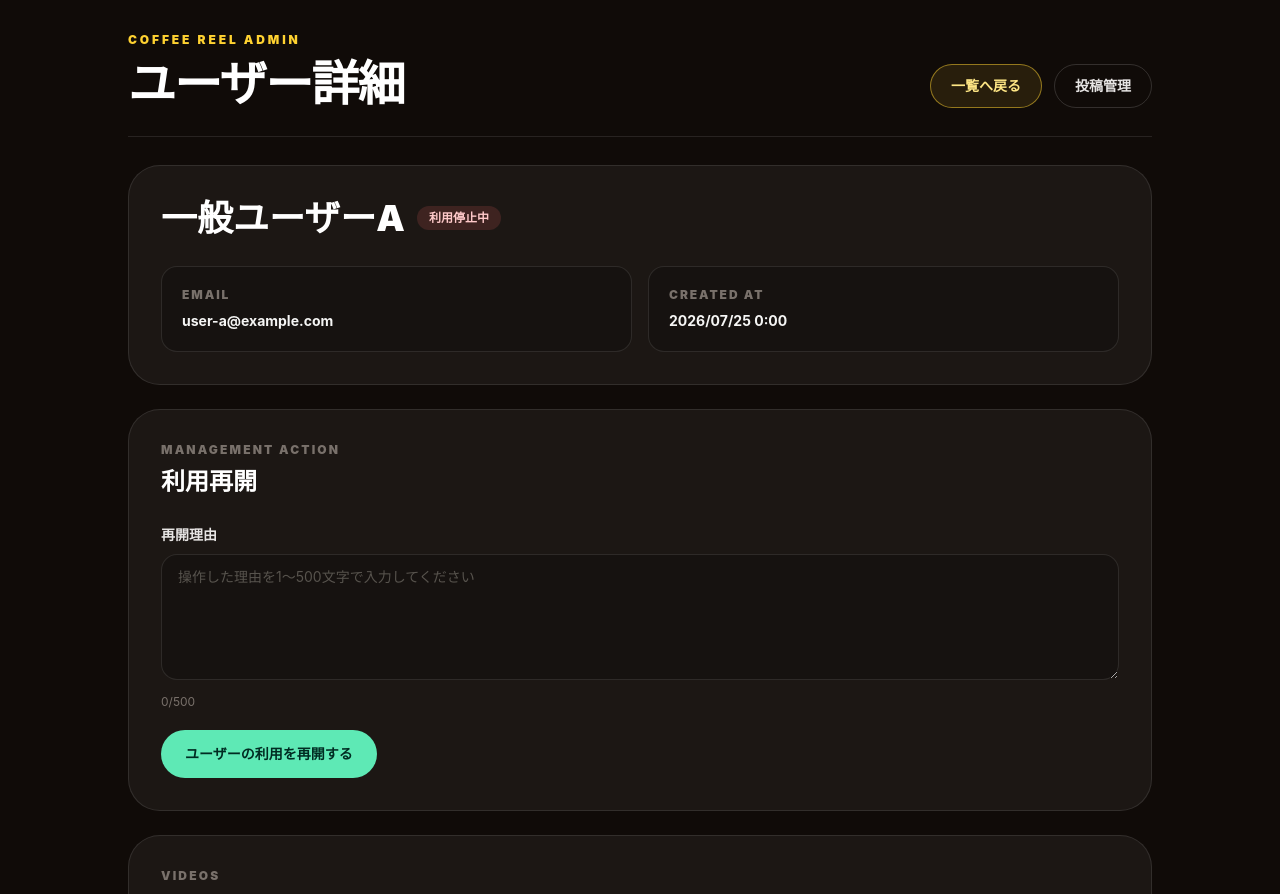
Scenario: AdminUserDetailPage › 停止中ユーザーを再開し、ResponseのStatusを反映する
The image size is (1280, 894).
Check: the heading "一般ユーザーA" is shown, box [161, 198, 405, 238]
Type "確認が完了したため" into the text box labelled "再開理由" at {"x": 640, "y": 617}, box [161, 554, 1119, 680]
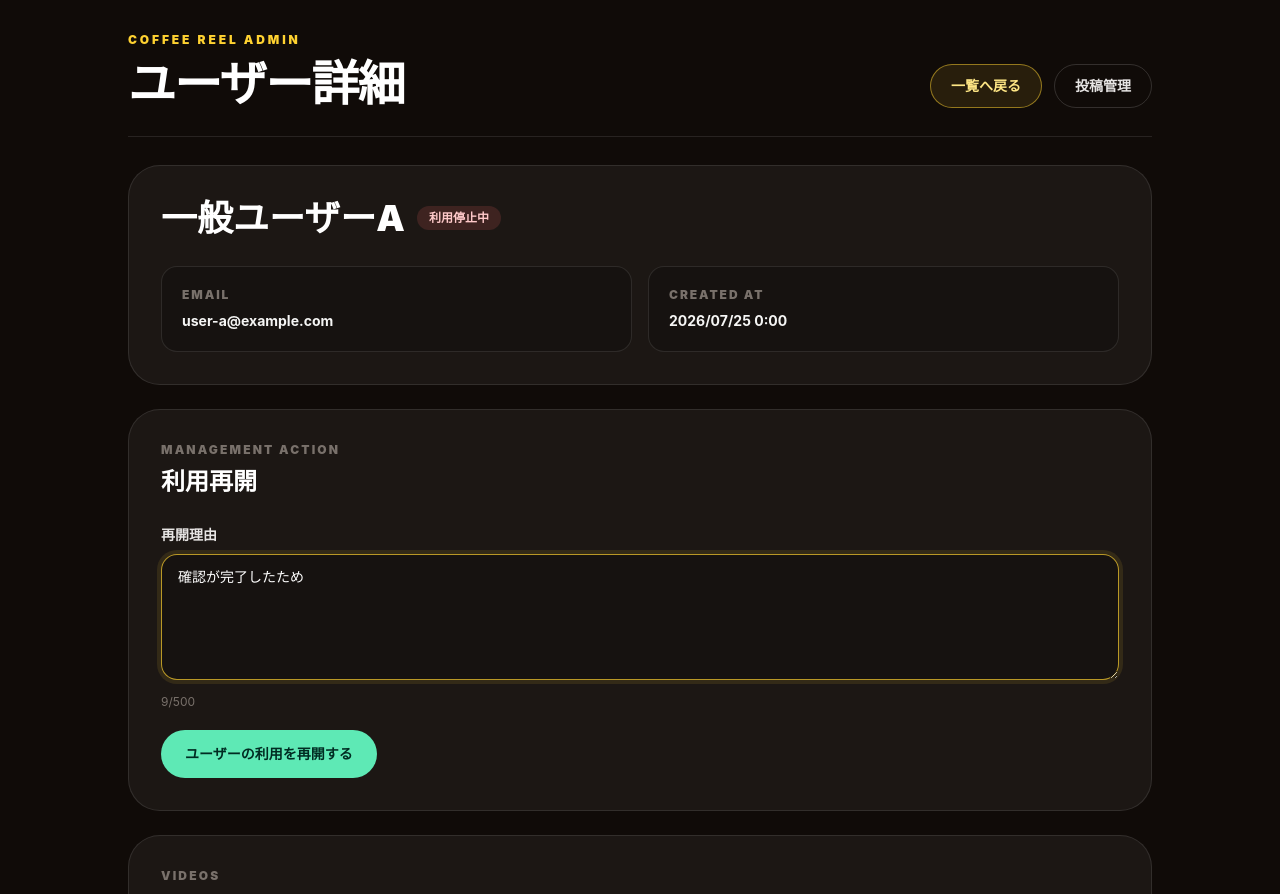
Click the button "ユーザーの利用を再開する" at {"x": 269, "y": 754}, box [161, 730, 377, 778]
(page scrolled)
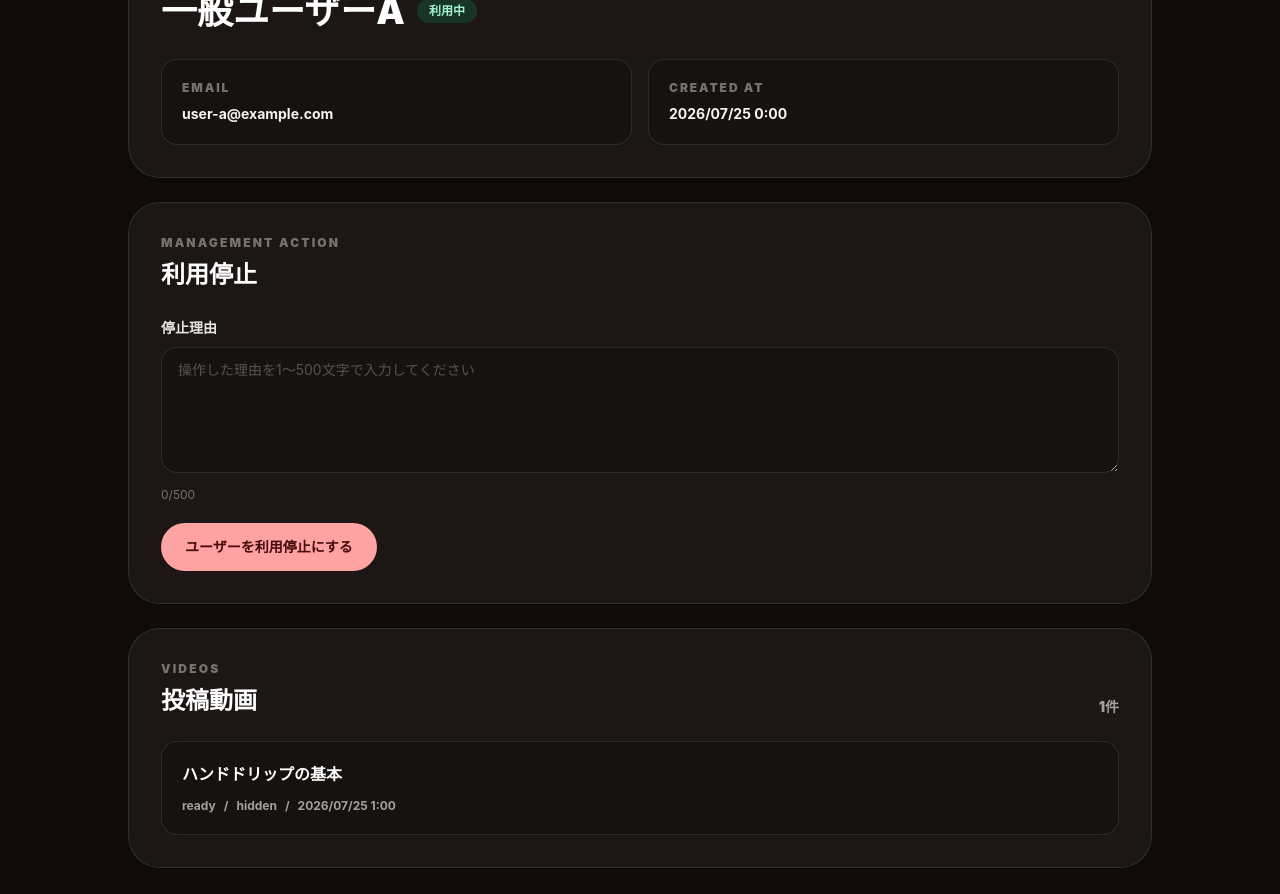
Check: the text "hidden" is shown, box [236, 798, 277, 814]
Check: the text "利用中" is shown, box [417, 0, 477, 23]
